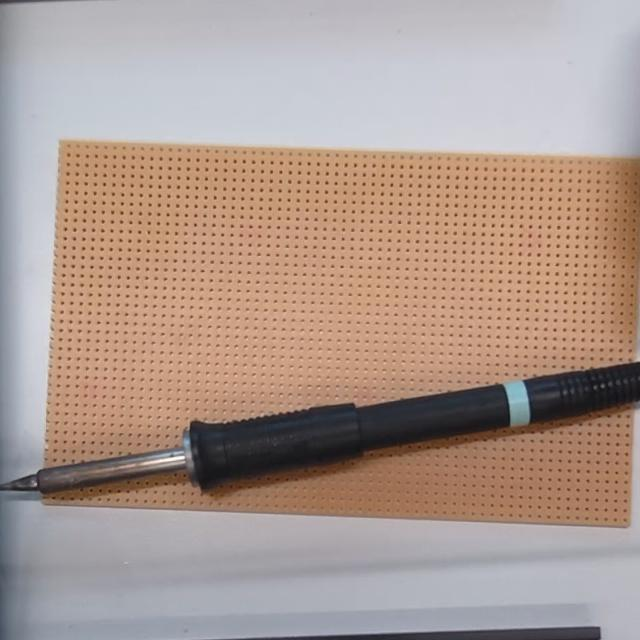soldering_iron: (0, 362, 640, 500)
